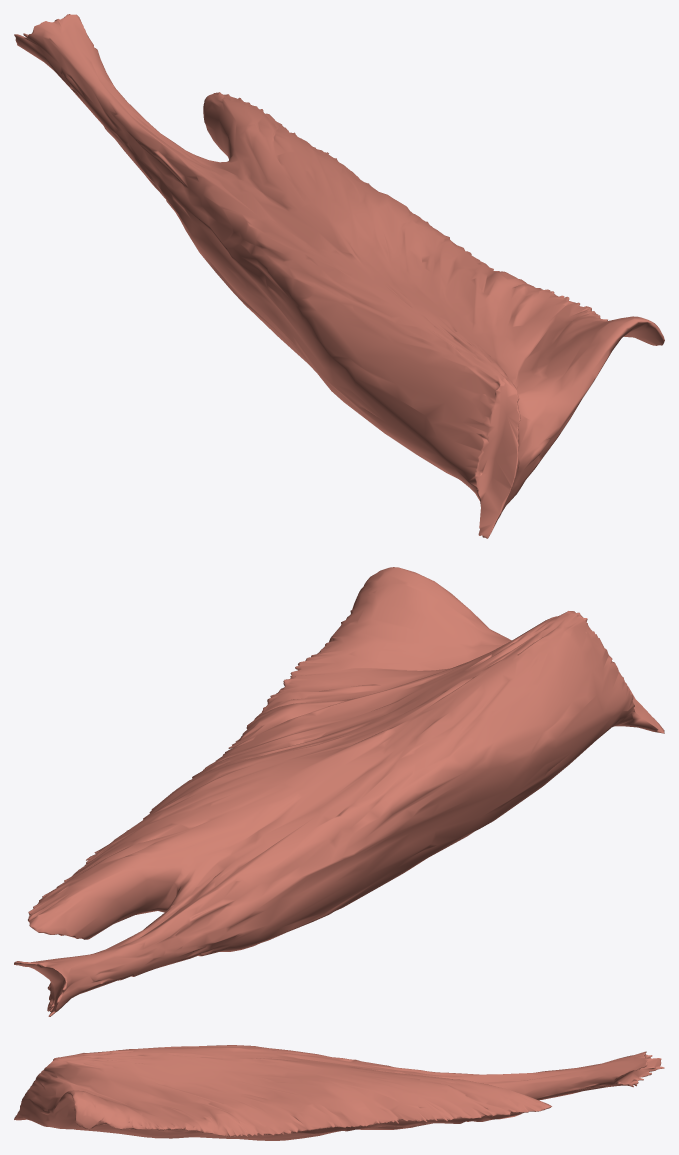
The picture shows the model from 3 angles, top to bottom: view 1: azimuth 30°, elevation 25°; view 2: azimuth 150°, elevation 25°; view 3: azimuth 270°, elevation 25°; orthographic projection. The views are drawn at different scales.
Parts seen in each view (by area): view 1: 左侧大收肌; view 2: 左侧大收肌; view 3: 左侧大收肌.
Part boxes in pixels (box(x1,y1,x2,y2)): 左侧大收肌: box(14, 14, 664, 538); 左侧大收肌: box(14, 567, 664, 1016); 左侧大收肌: box(14, 1045, 664, 1140).
Size of the model in its own units: 0.1438 by 0.0772 by 0.5271.
